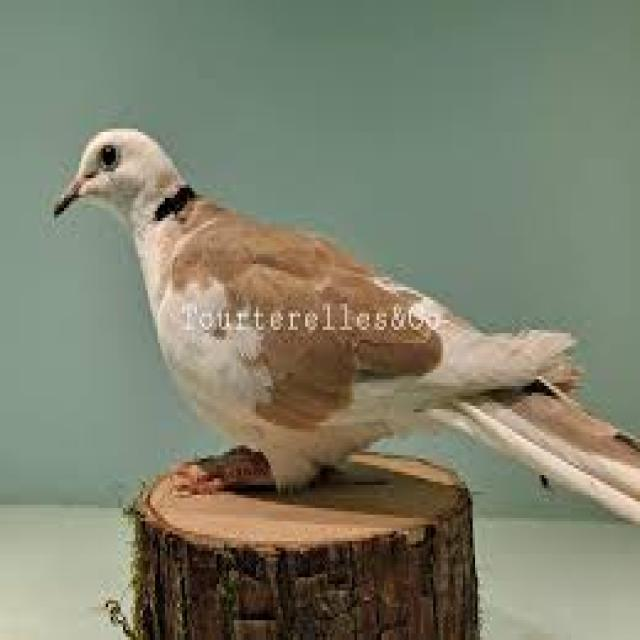pigeon: (27, 82, 640, 514)
